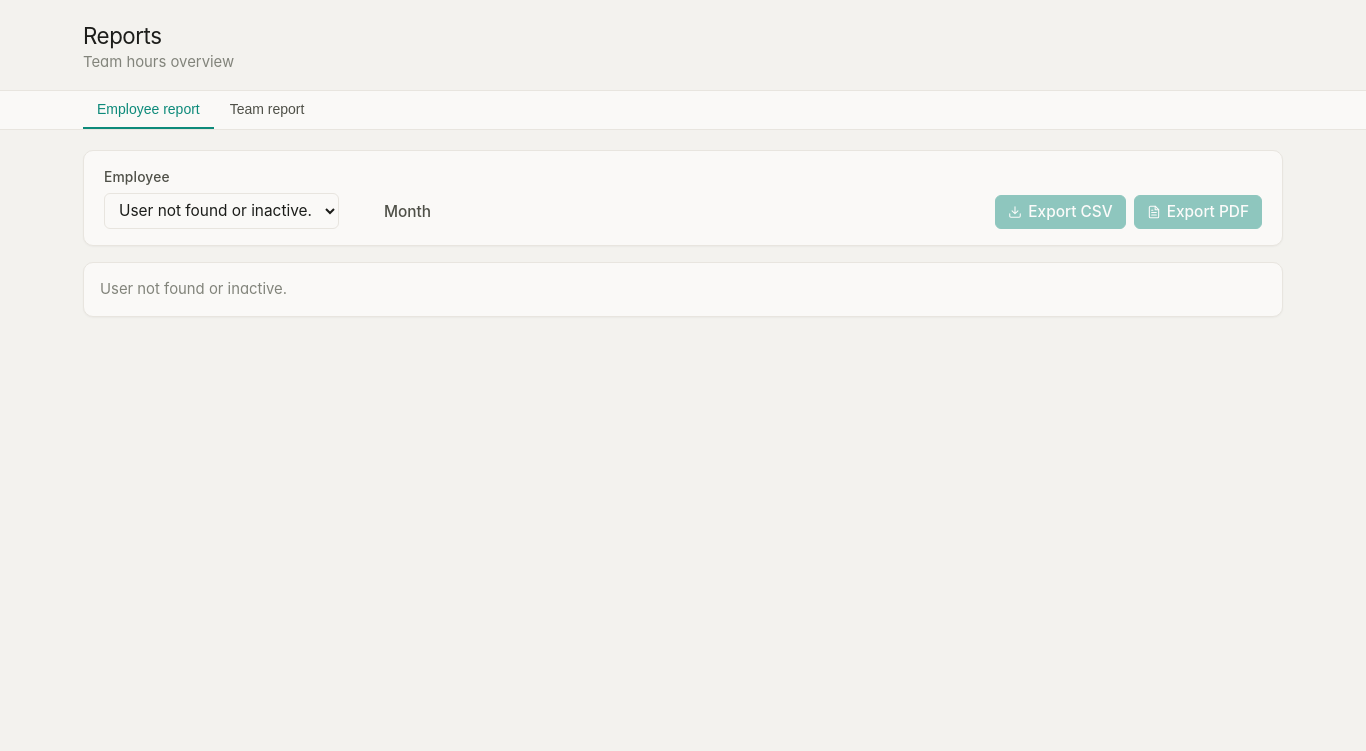
Test: Reports › does not substitute another employee for an unavailable link and accepts manual selection
The image size is (1366, 751).
expect the button "Export CSV" is disabled: met, box [995,195,1126,229]
Select "Ben Employee" in the dropdown with id "reports-user-select" at (222,211), box [104,193,339,229]
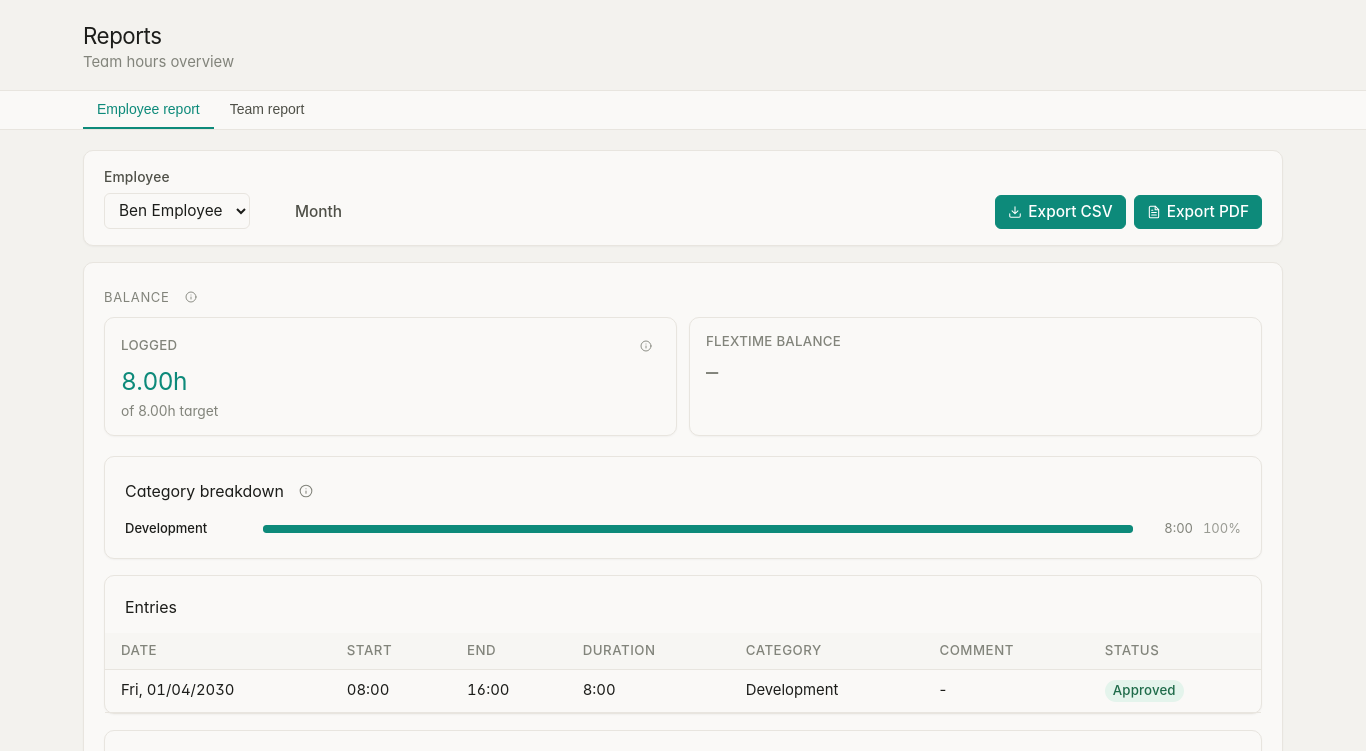
expect the text "User not found or inactive." is gone: met
expect the button "Export CSV" is enabled: met, box [995,195,1126,229]
